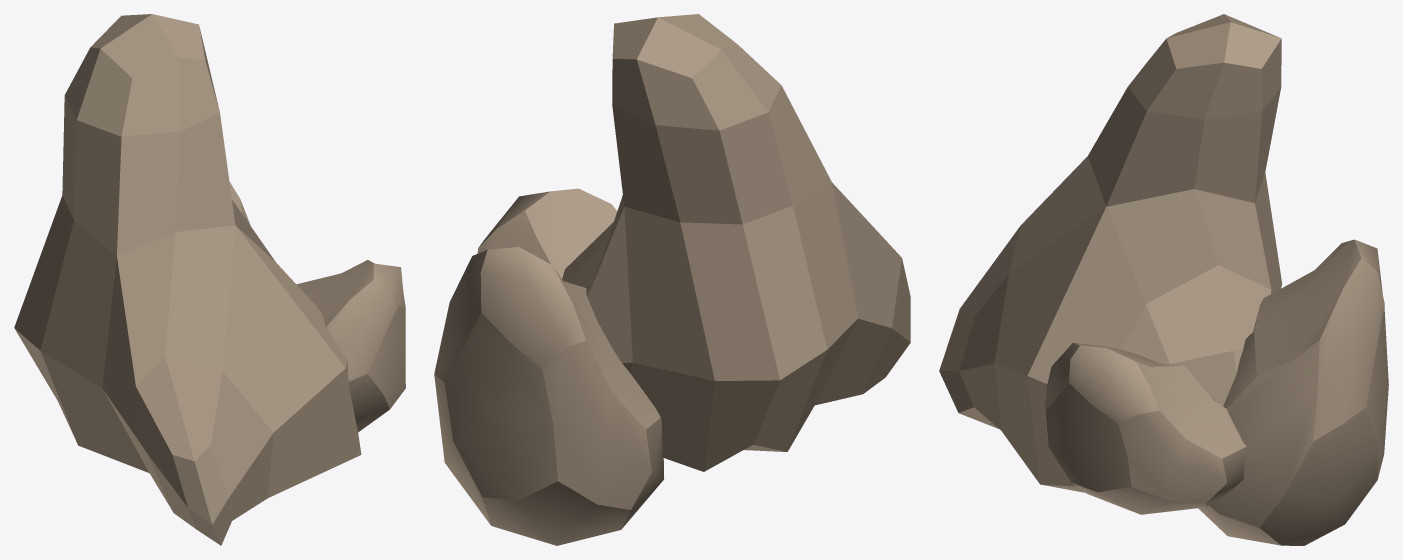
File: rock2.fbx
3 views of the same model, side by side, from view 1: azimuth 30°, elevation 25°; view 2: azimuth 150°, elevation 25°; view 3: azimuth 270°, elevation 25° (orthographic). The views are drawn at different scales.
Parts seen in each view (by area): view 1: rock2; view 2: rock2; view 3: rock2.
Boxes of the visible parts, x1,y1,x2,y2 form: rock2: (14,14,405,545); rock2: (434,14,910,545); rock2: (939,14,1388,545).
Bounding box in the file's own units: 209 × 281 × 237.
